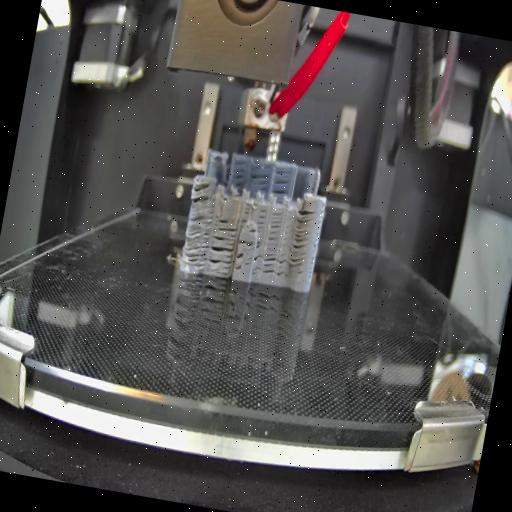cracks: (180, 210, 212, 268), (288, 206, 316, 268), (205, 233, 236, 273), (266, 208, 285, 242), (249, 238, 265, 278), (271, 168, 292, 198), (190, 179, 214, 205), (261, 248, 278, 278), (216, 214, 238, 236), (231, 162, 248, 188), (250, 170, 270, 191), (275, 251, 288, 280), (240, 199, 253, 224), (233, 249, 245, 273), (256, 204, 268, 228), (238, 234, 256, 248), (248, 228, 257, 234)
